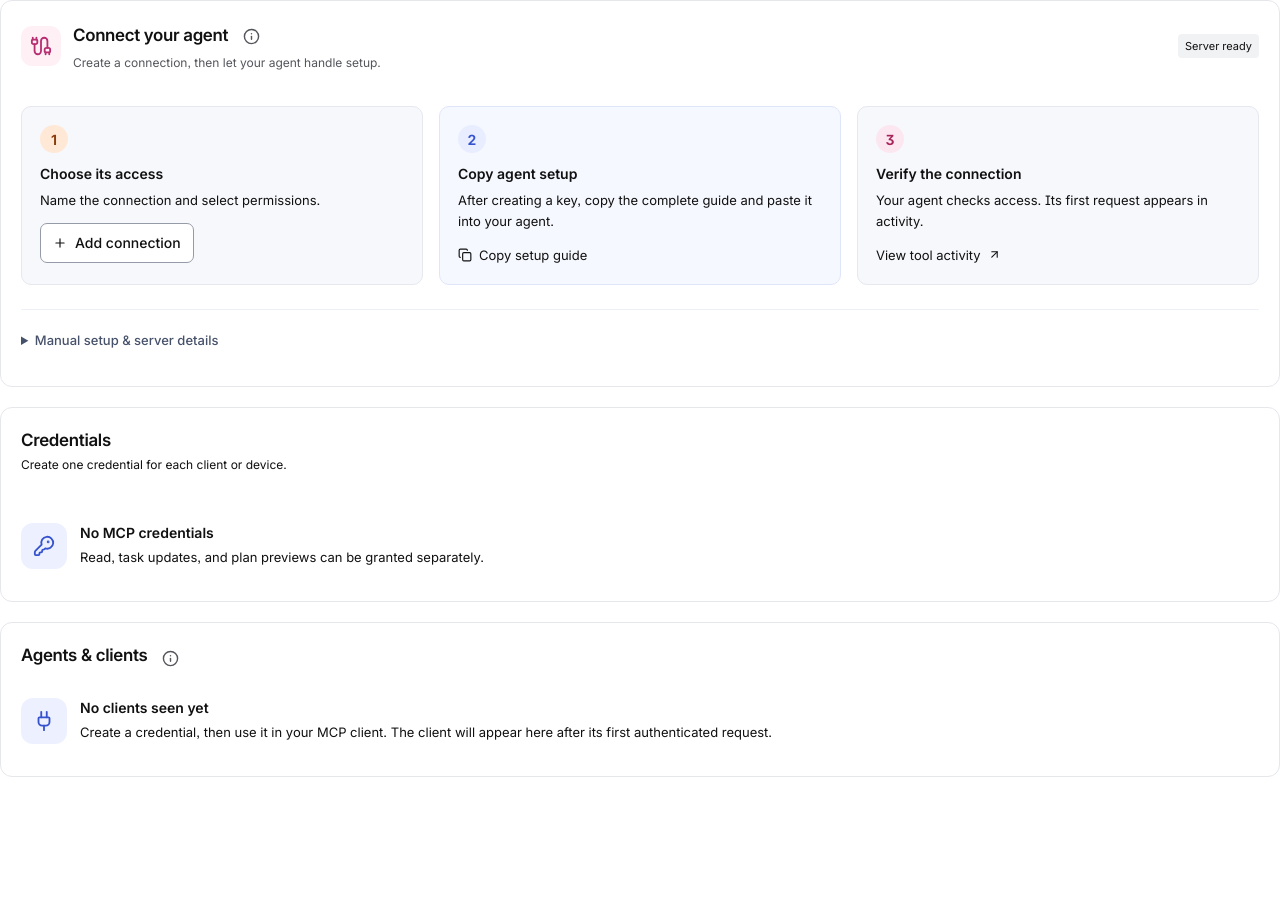
Test: ignores a credential response after its dialog has been closed
The image size is (1280, 900).
Click the button "Add connection" at (117, 243), box [40,223,194,263]
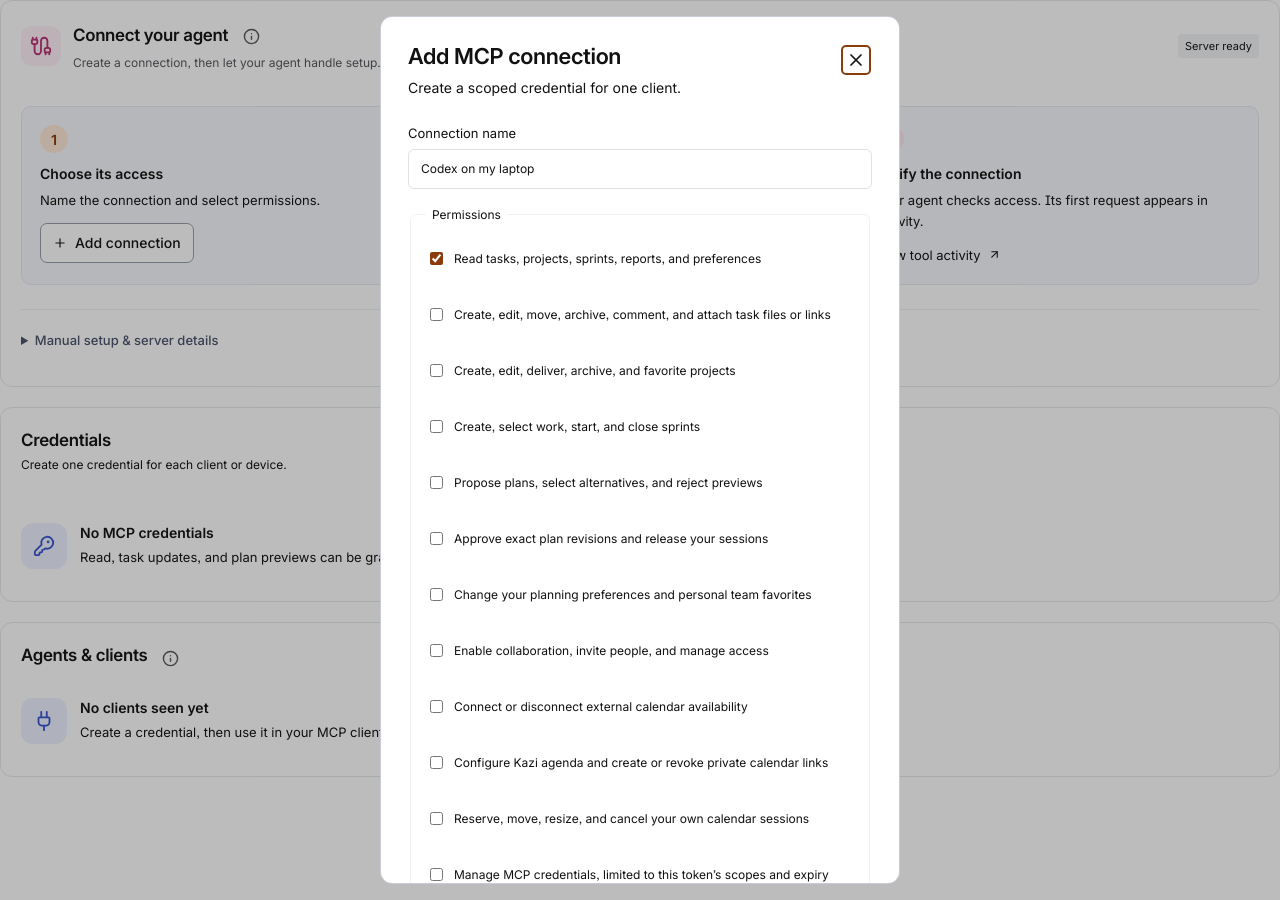
Type "Slow client" into the field labelled "Connection name" at (640, 169), box [408,149,872,189]
(page scrolled)
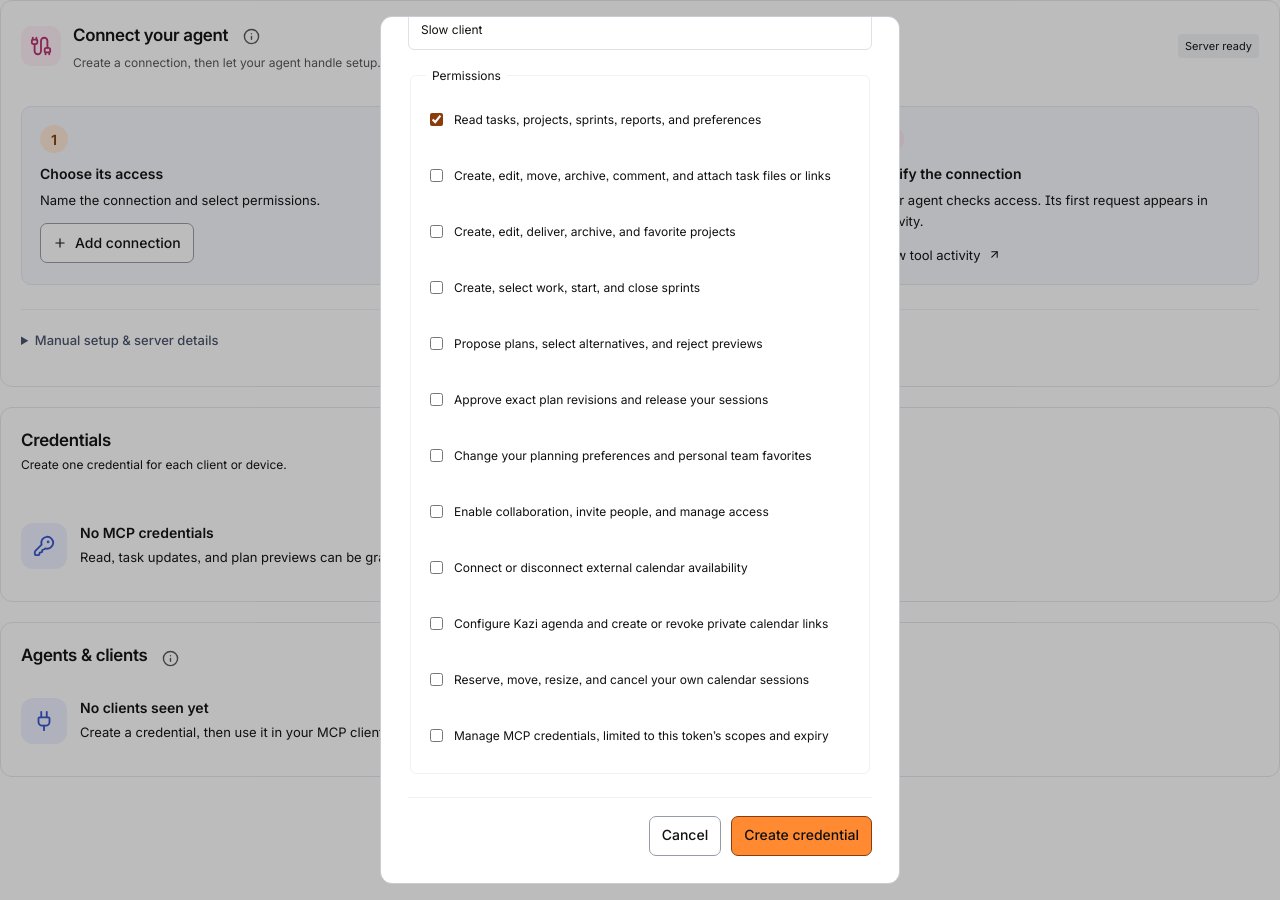
Click the button "Create credential" at (802, 836), box [731,816,872,856]
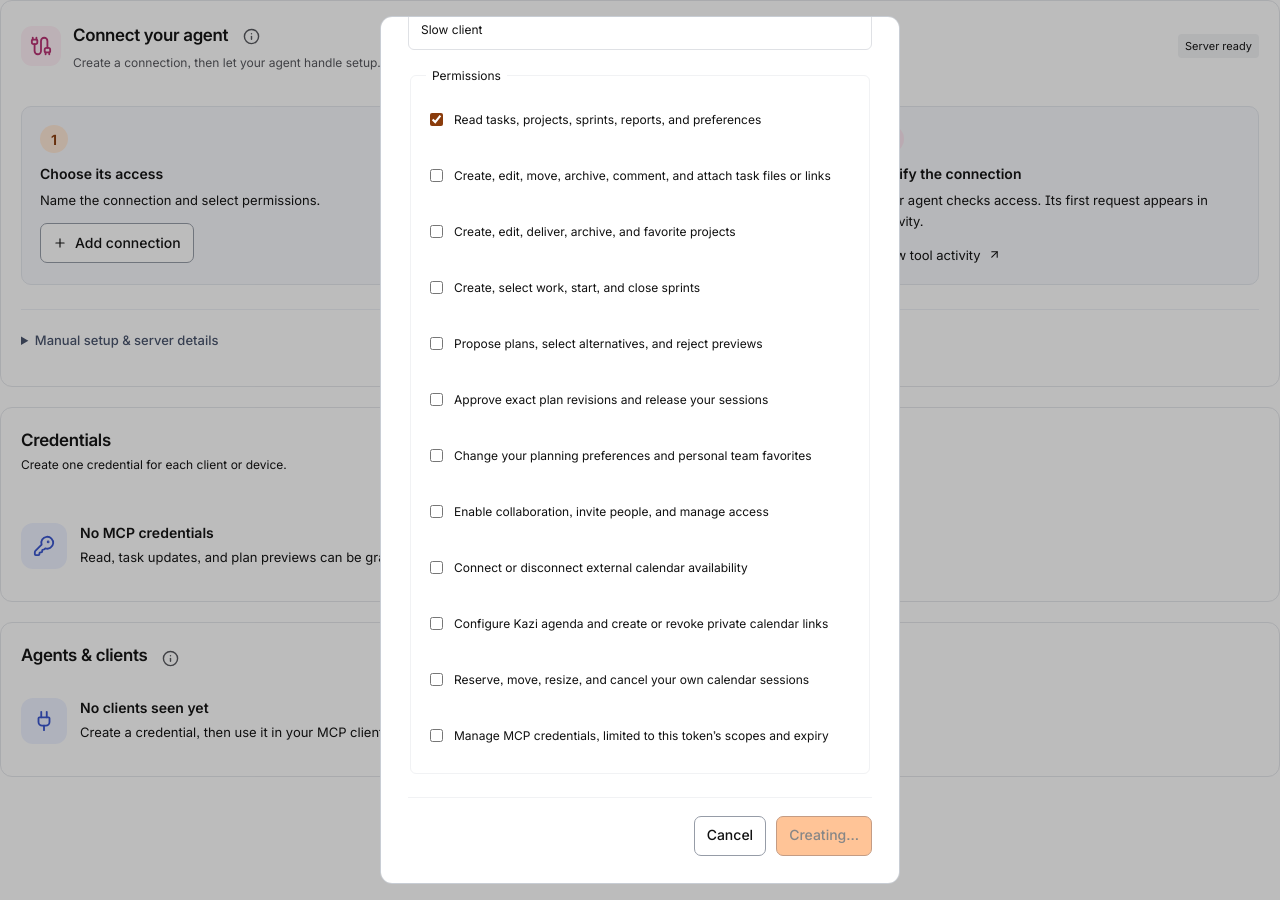
Click the button "Cancel" at (730, 836), box [694,816,766,856]
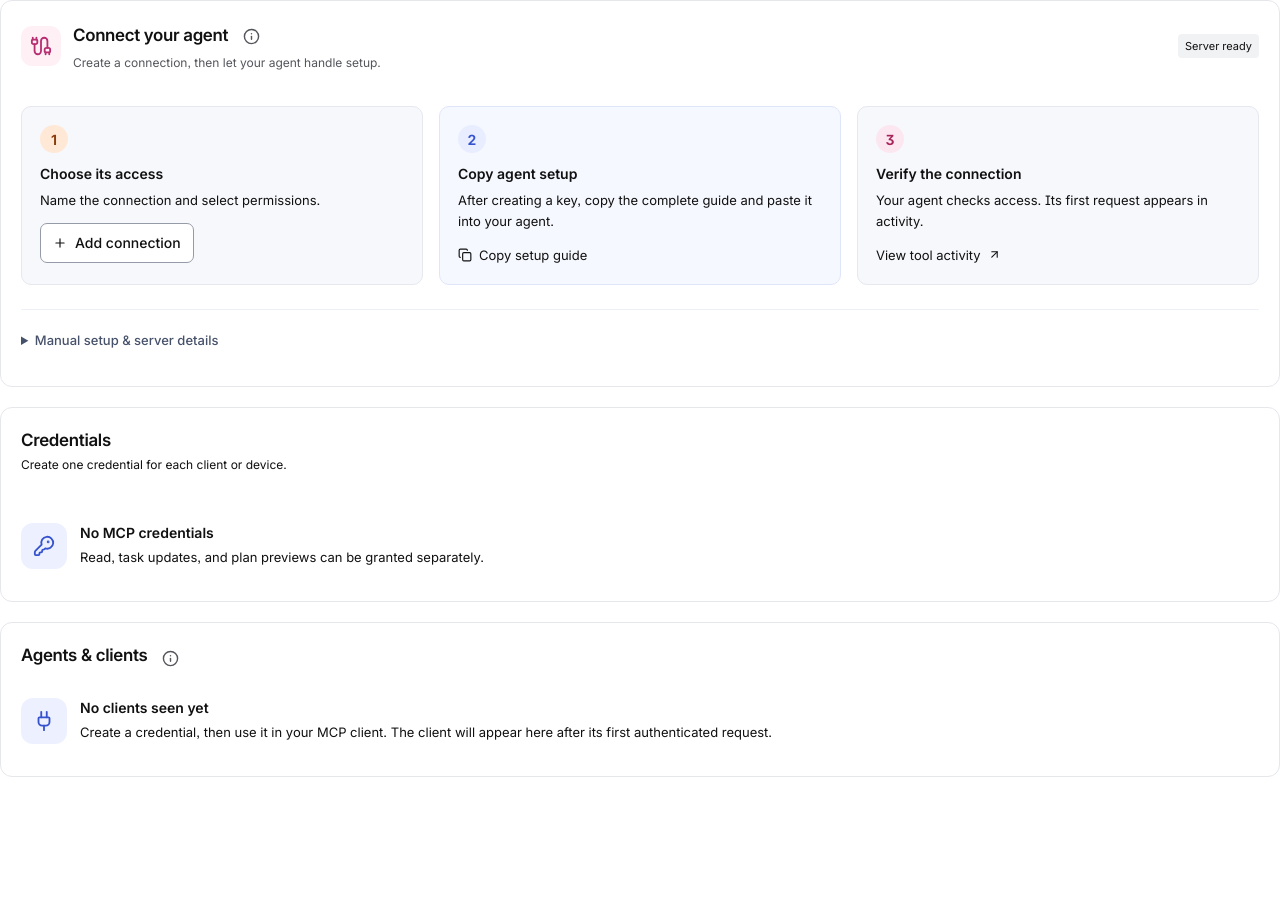
Click the button "Add connection" at (117, 243), box [40,223,194,263]
(page scrolled)
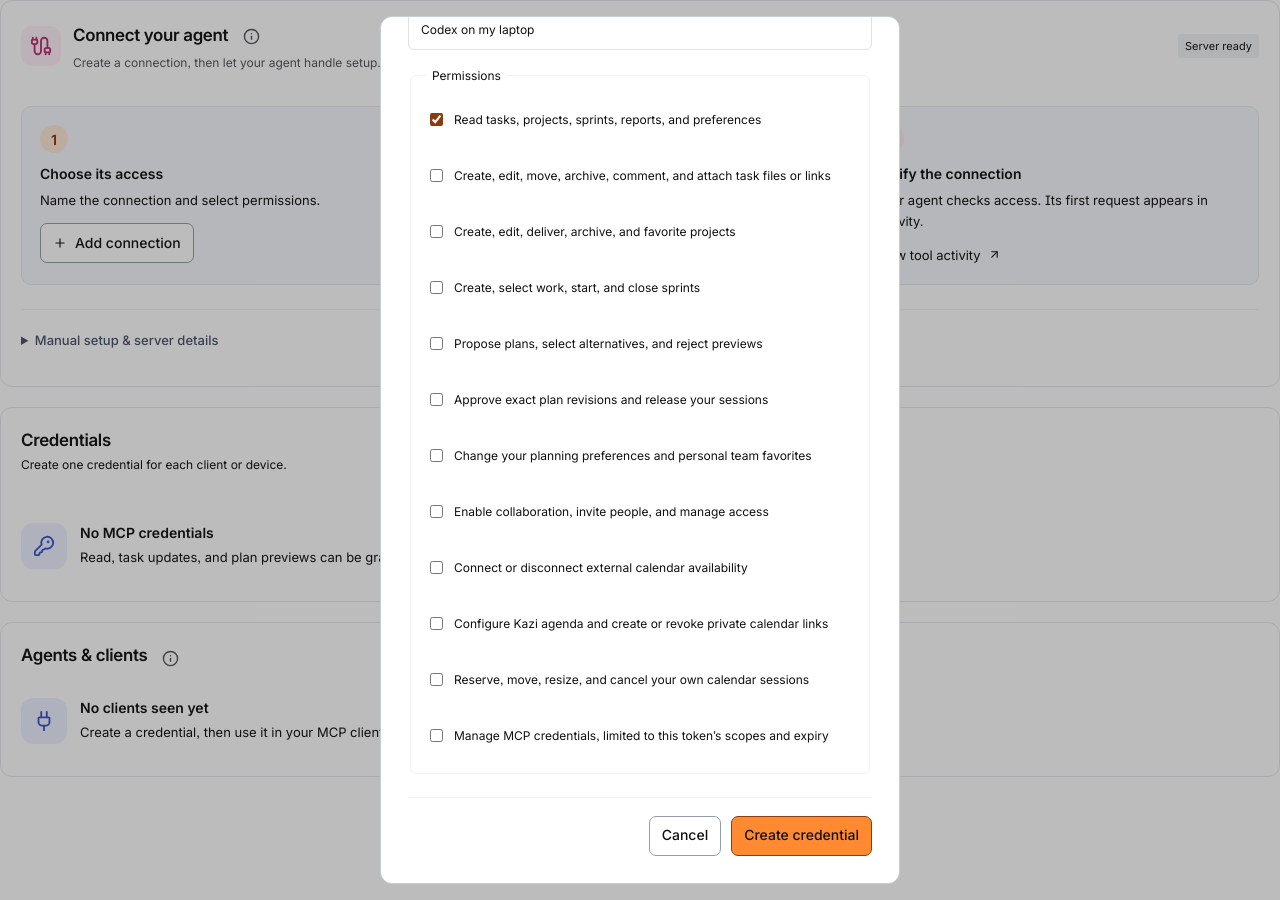
Result: the button "Create credential" is enabled at [731,816,872,856]
